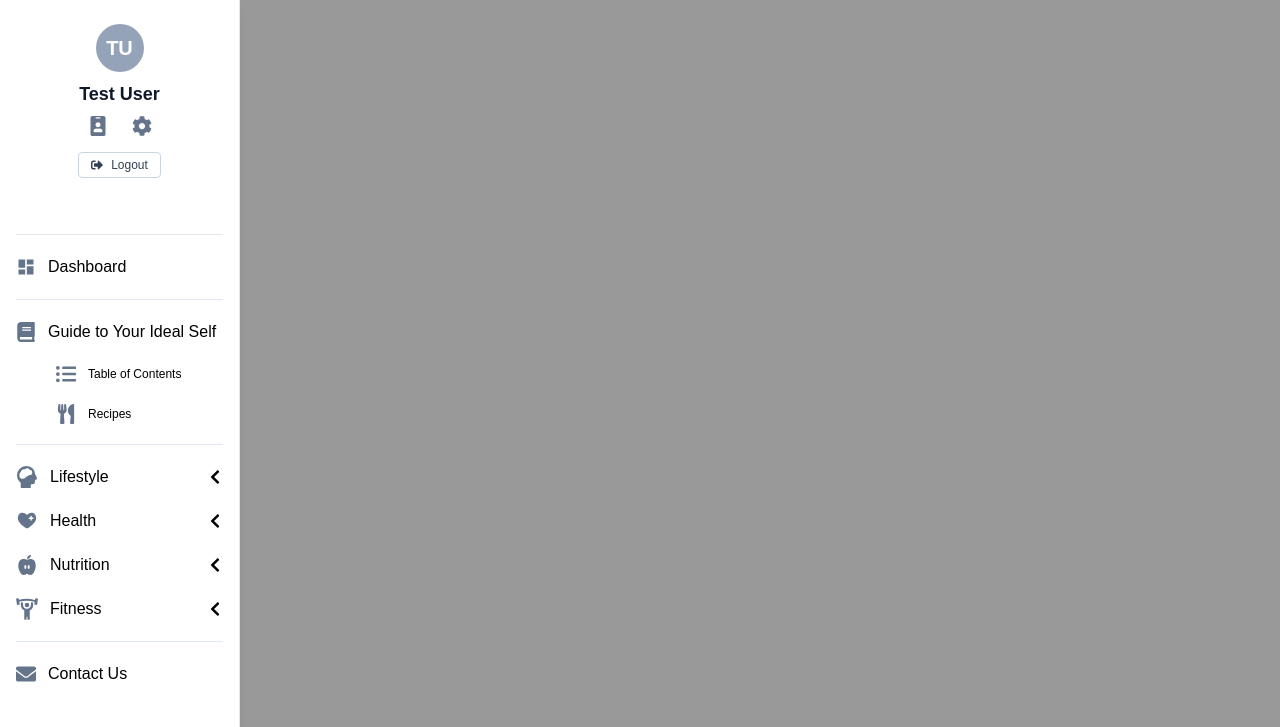
Scenario: Sidebar Navigation Integration › Section Navigation Flow › collapses section when clicked again
The image size is (1280, 727).
Note: Expand section
Click the button "Lifestyle" at (120, 477), box [8, 457, 231, 497]
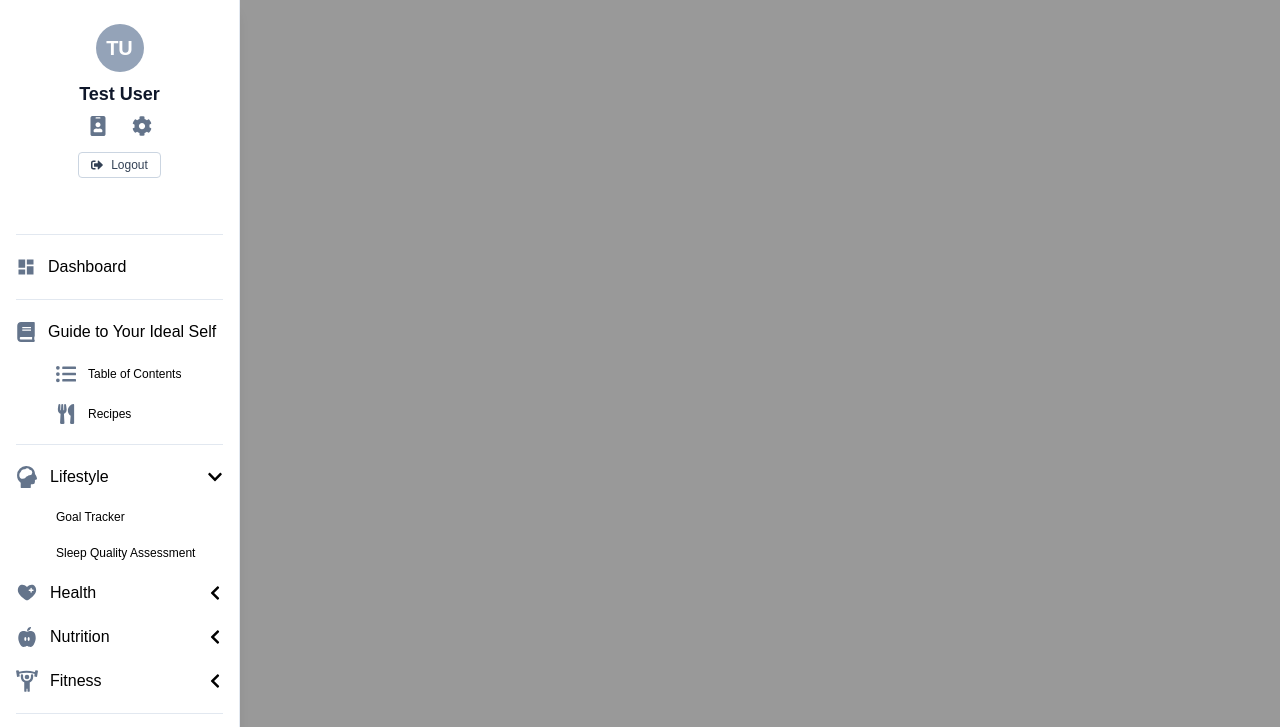
Now the text "Goal Tracker" is shown, box [56, 510, 125, 524]
Note: Collapse section
Click the button "Lifestyle" at (120, 477), box [8, 457, 231, 497]
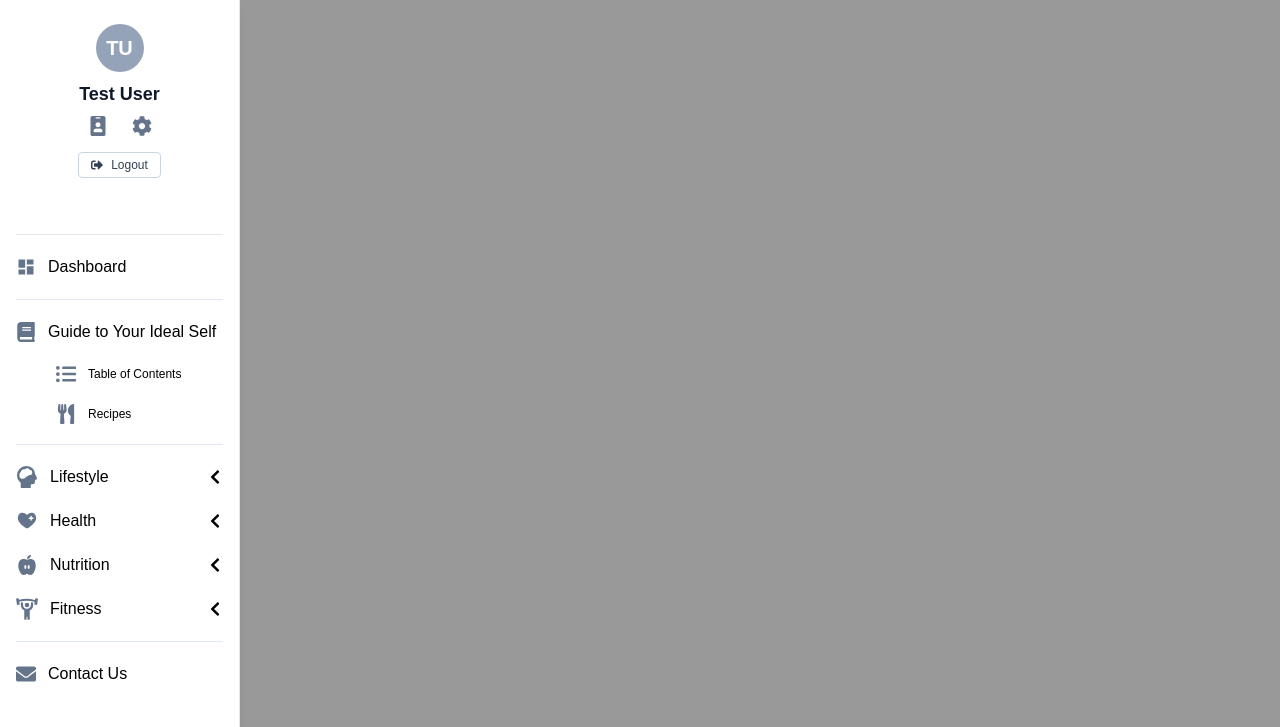
Now the button "Goal Tracker" is gone
